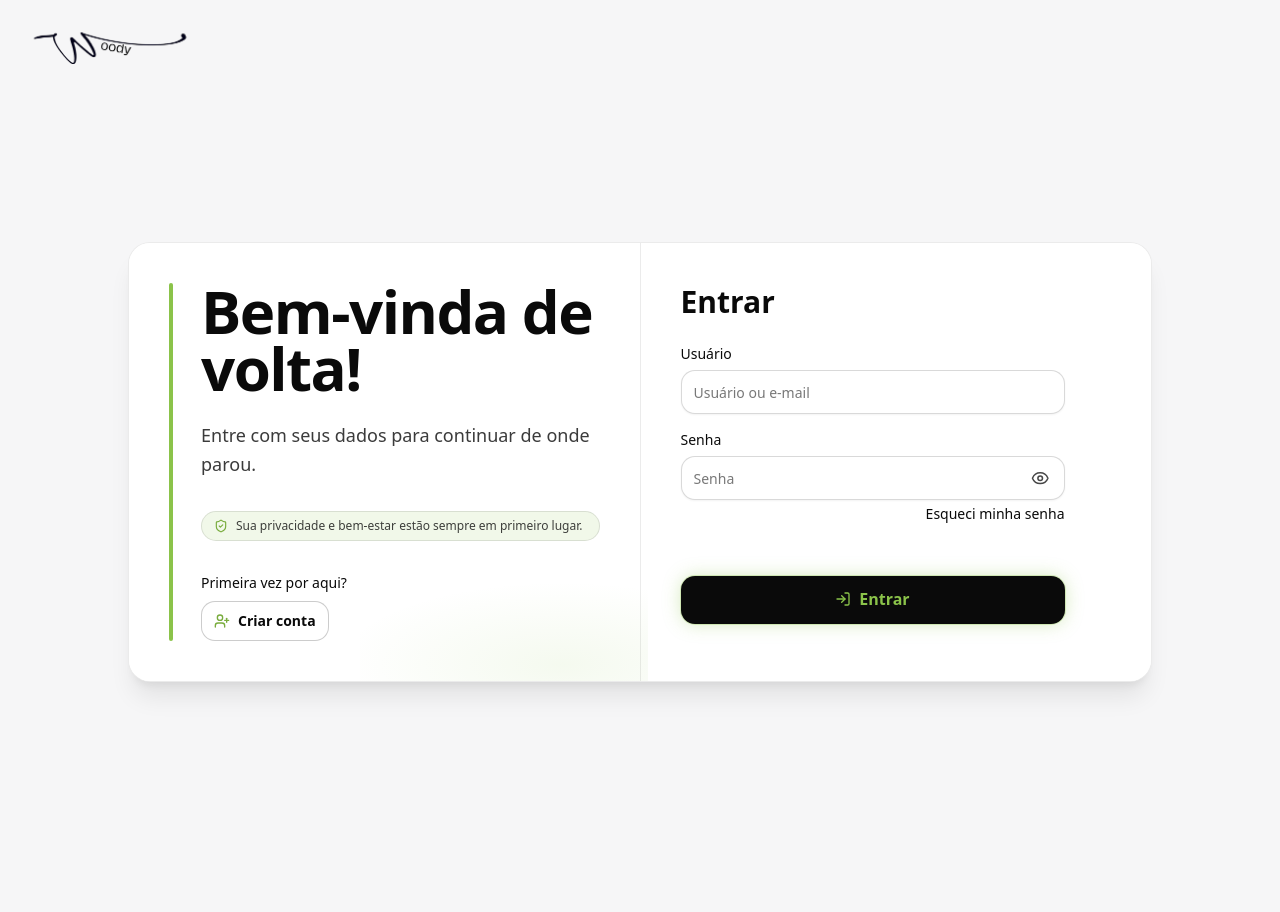
Test: LoginPage › credenciais inválidas mostram erro normal
In the field labelled "Usuário": (872, 392) 680,370 -> 1064,414, type "user"
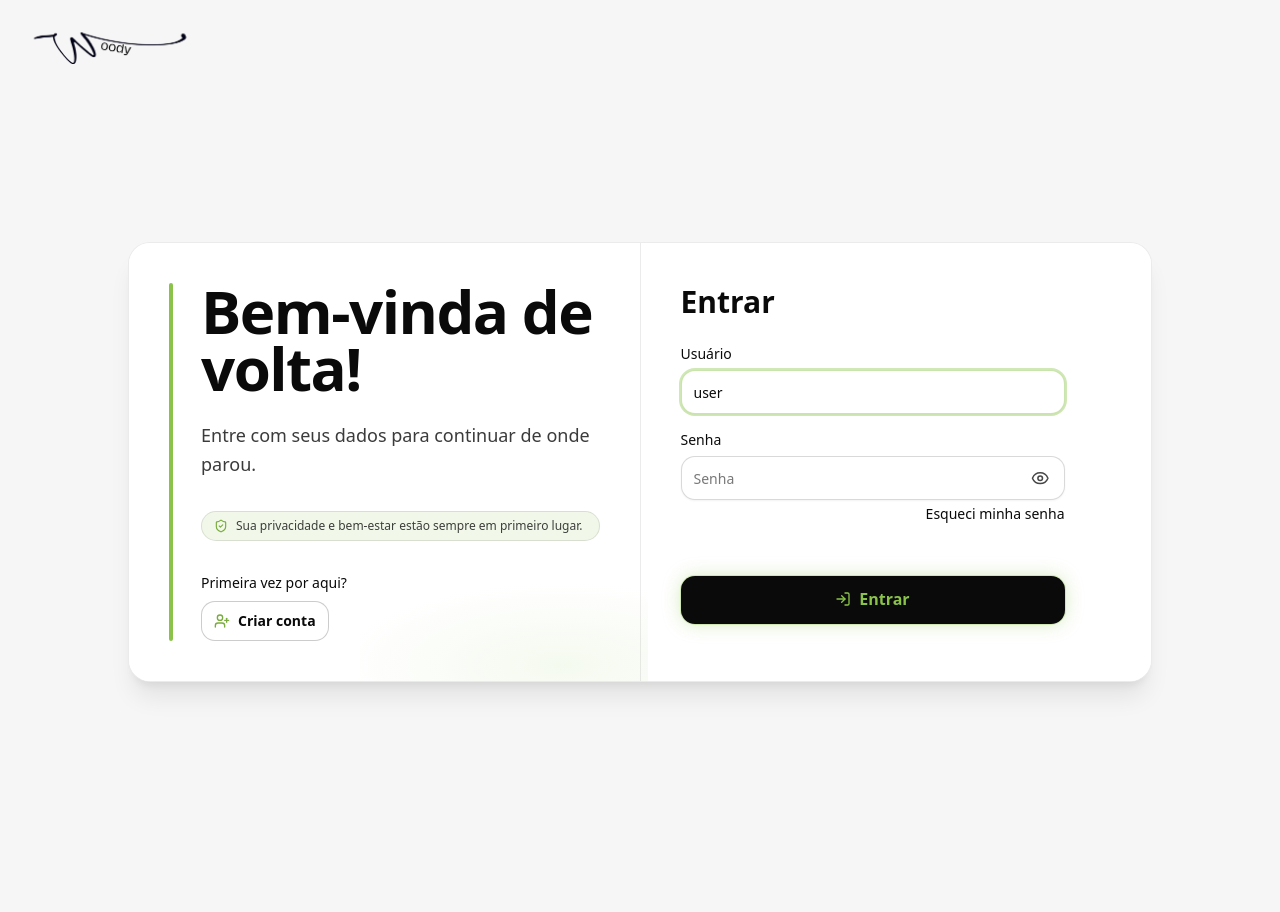
In the password field labelled "Senha": (872, 478) 680,456 -> 1064,500, type "wrong1!"
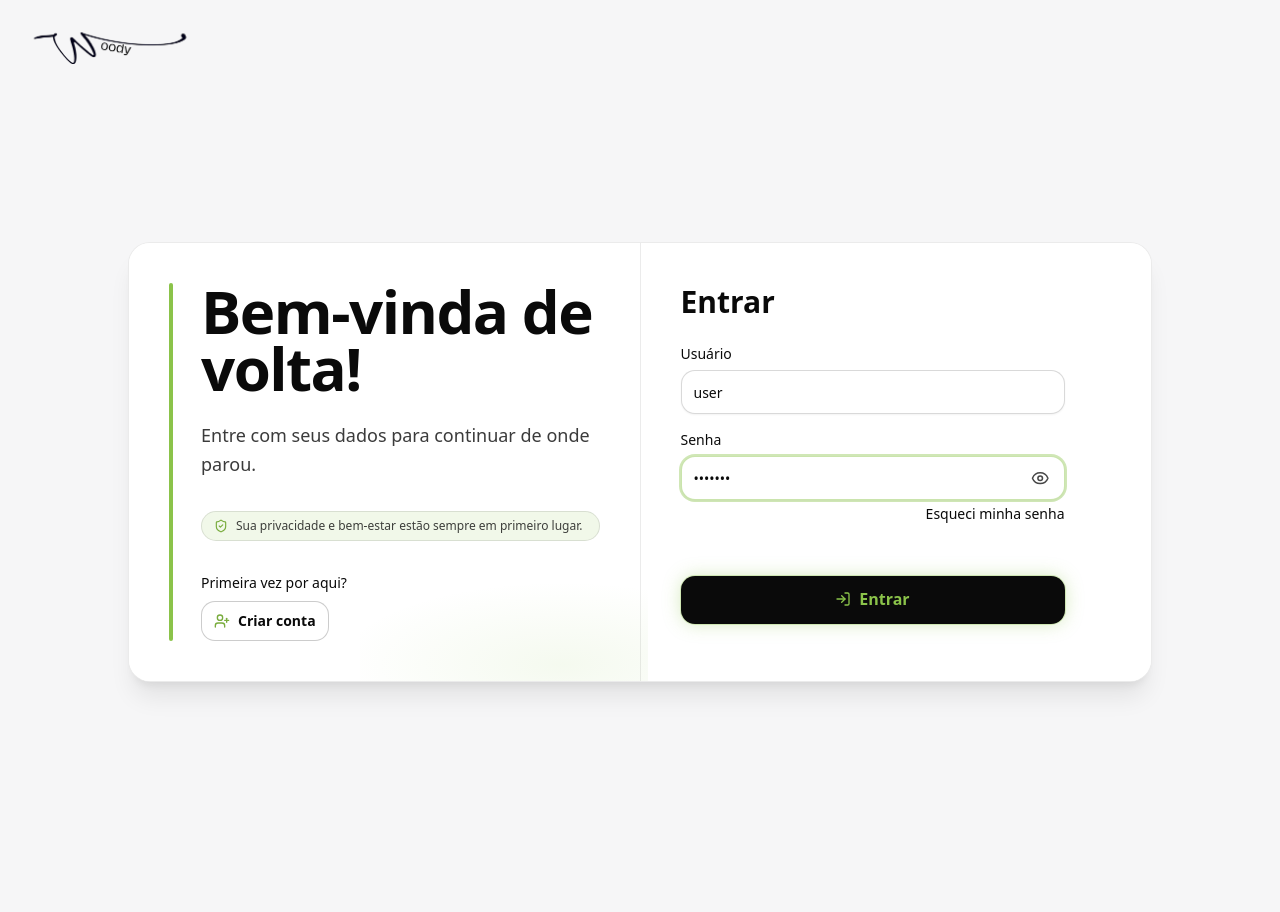
Click the button "Entrar": (872, 600) 680,576 -> 1064,624
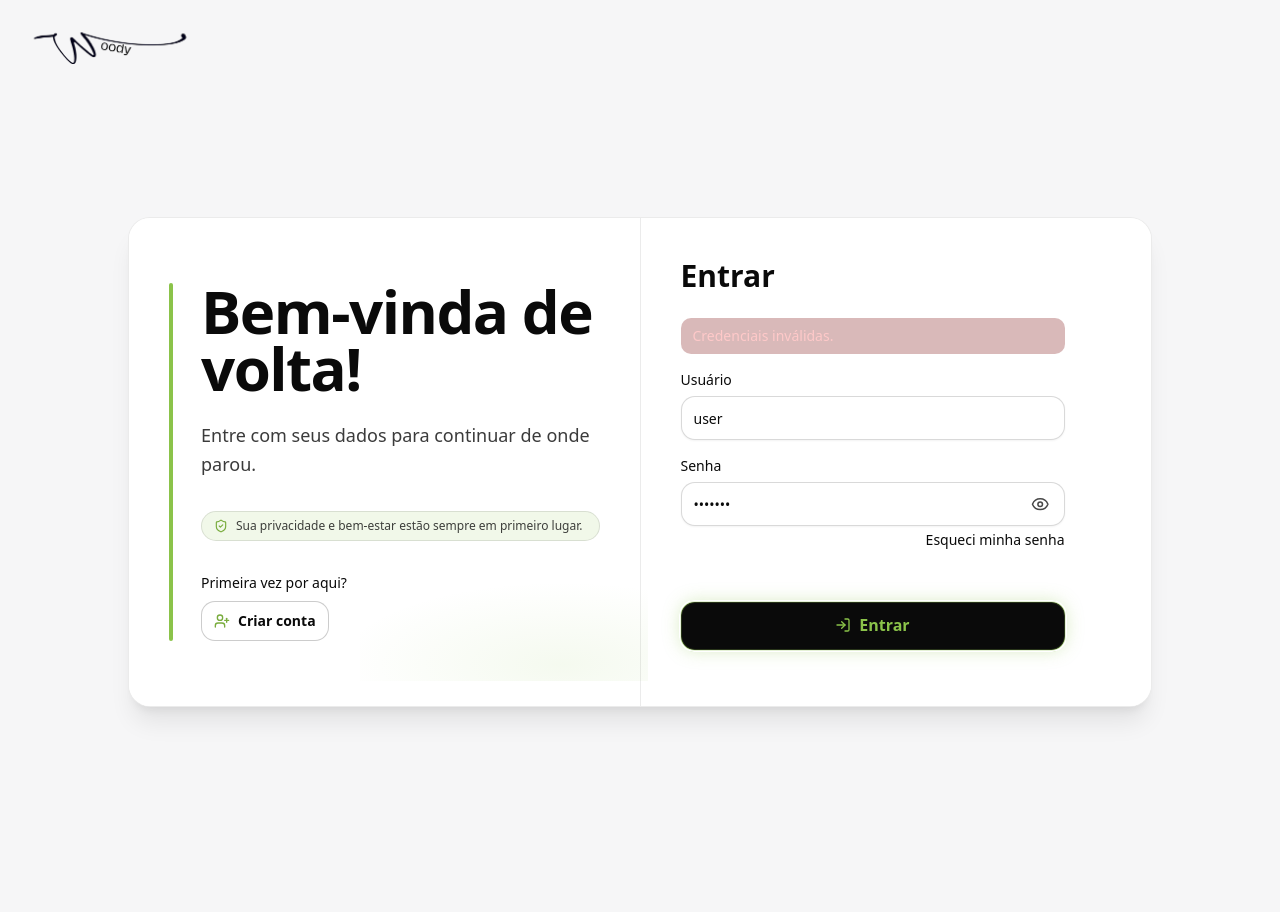
expect the text "Credenciais inválidas." is shown: met, box 680,318 -> 1064,354
